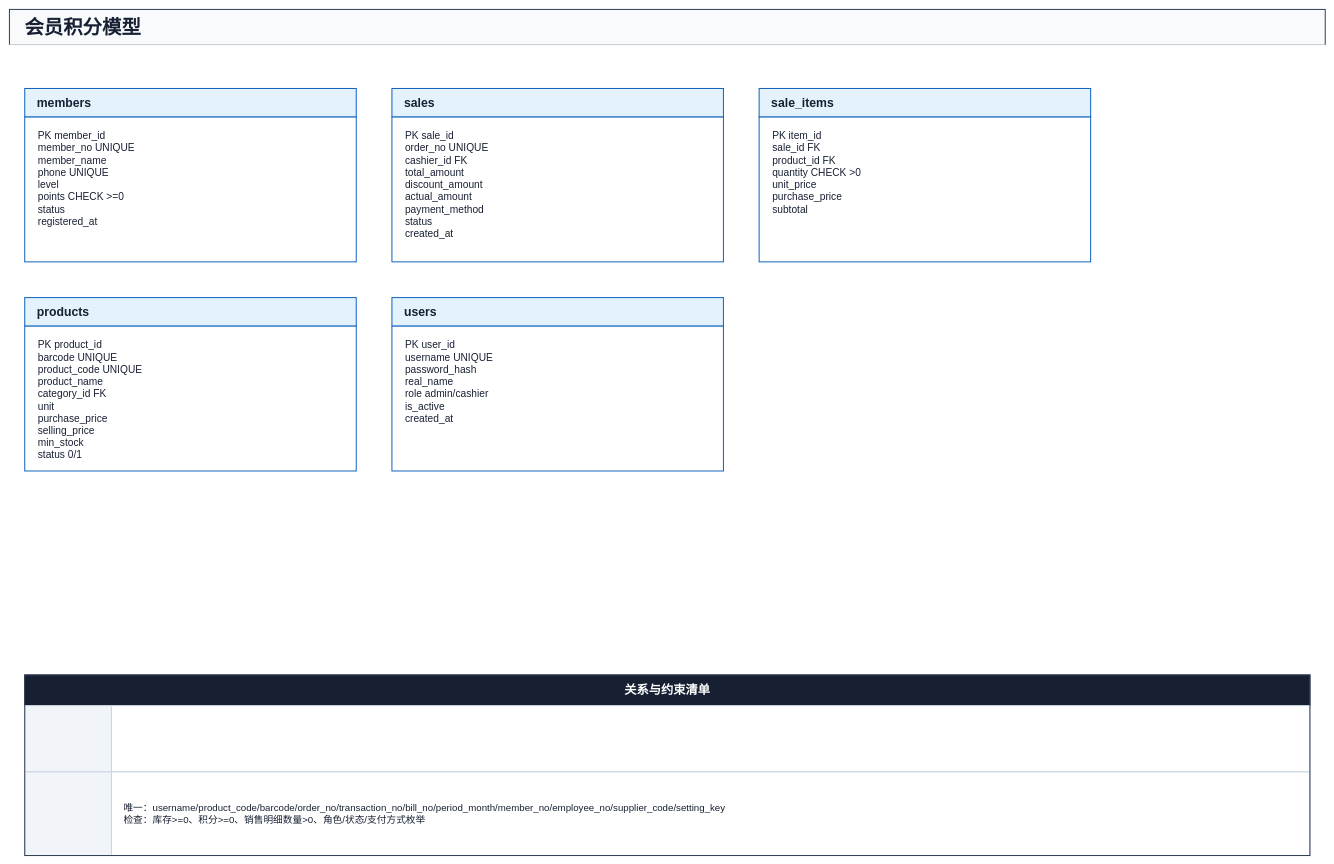
This 1334x864 diagram has some shape labels left out. The centre of each missing label's shape, as x and y in pixels:
"1. members 通过收银流程关联 sales 2. sales 1-N sale_items 3. products 1-N sale_items" belongs at (710,738).
"ER 模型｜表字段、主外键、唯一约束、关系清单" belongs at (667,55).
"关系" belongs at (68,738).
"约束" belongs at (68,813).
